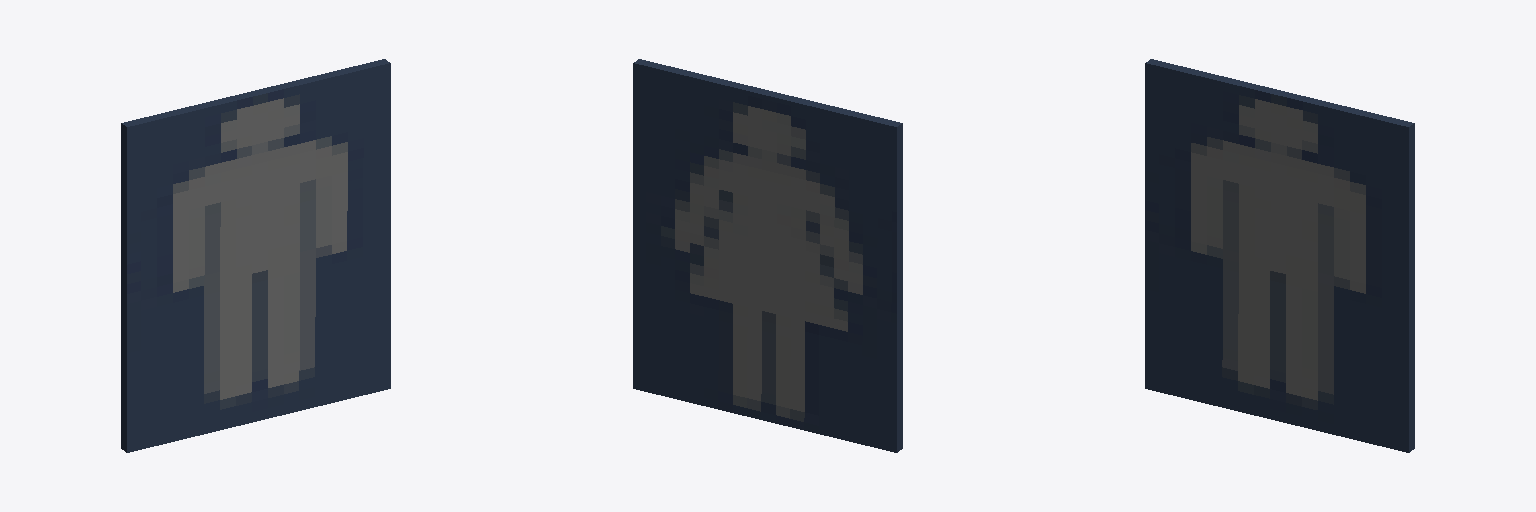
The picture shows the model from 3 angles: view 1: azimuth 30°, elevation 25°; view 2: azimuth 150°, elevation 25°; view 3: azimuth 330°, elevation 25°; orthographic projection.
Visible parts, largest first — view 1: Cube; view 2: Cube; view 3: Cube.
Part boxes in pixels (bbox=[...]): Cube: bbox=[121, 59, 390, 452]; Cube: bbox=[633, 59, 902, 452]; Cube: bbox=[1145, 59, 1414, 452].
Bounding box in the file's own units: 2 × 2.36 × 0.0755.
1 materials, 1 textured.